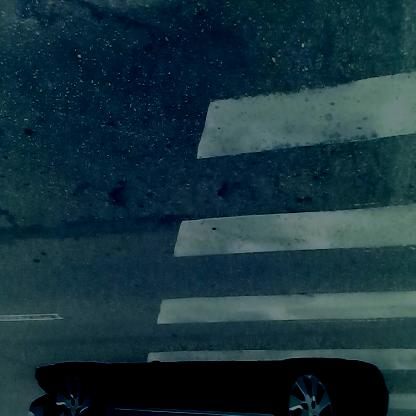crosswalk: (174, 55, 416, 392)
